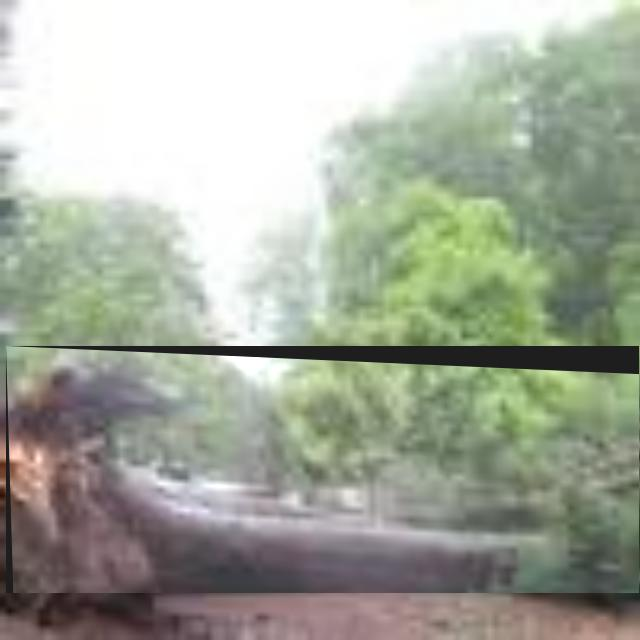Fallen Tree: (6, 346, 640, 594)
